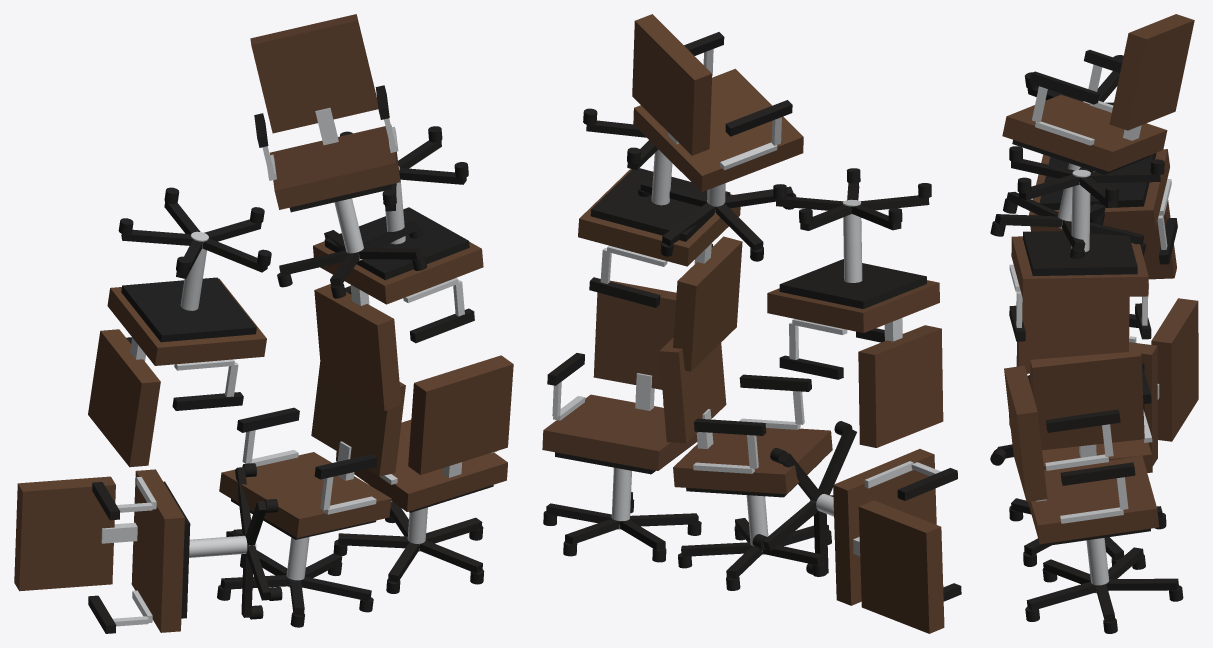
Rendered from SM_80s_ChairPile_B.glb.
3 views of the same model, side by side, from view 1: azimuth 30°, elevation 25°; view 2: azimuth 150°, elevation 25°; view 3: azimuth 270°, elevation 25° (orthographic).
Parts seen in each view (by area): view 1: SM_80s_ChairPile_B; view 2: SM_80s_ChairPile_B; view 3: SM_80s_ChairPile_B.
Boxes of the visible parts, x1=… form: SM_80s_ChairPile_B: x1=14, y1=14, x2=513, y2=633; SM_80s_ChairPile_B: x1=542, y1=14, x2=961, y2=633; SM_80s_ChairPile_B: x1=990, y1=14, x2=1198, y2=633.
Size of the model in its own units: 2.52 by 3.05 by 1.05.
